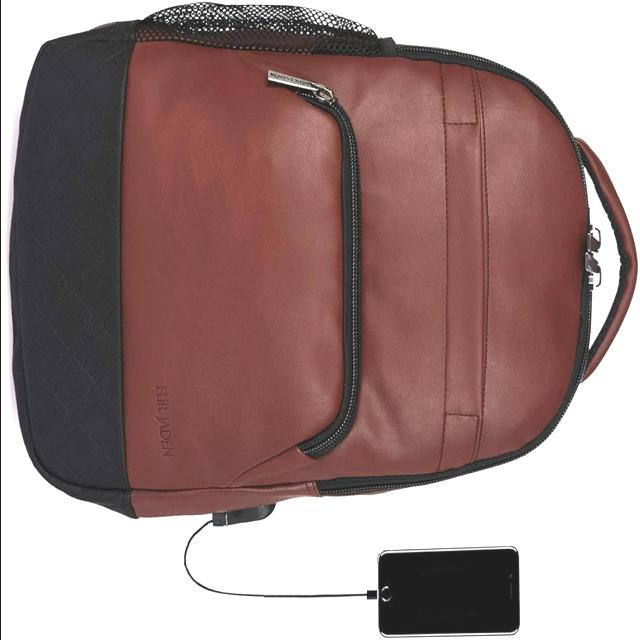backpack: (1, 1, 640, 537)
